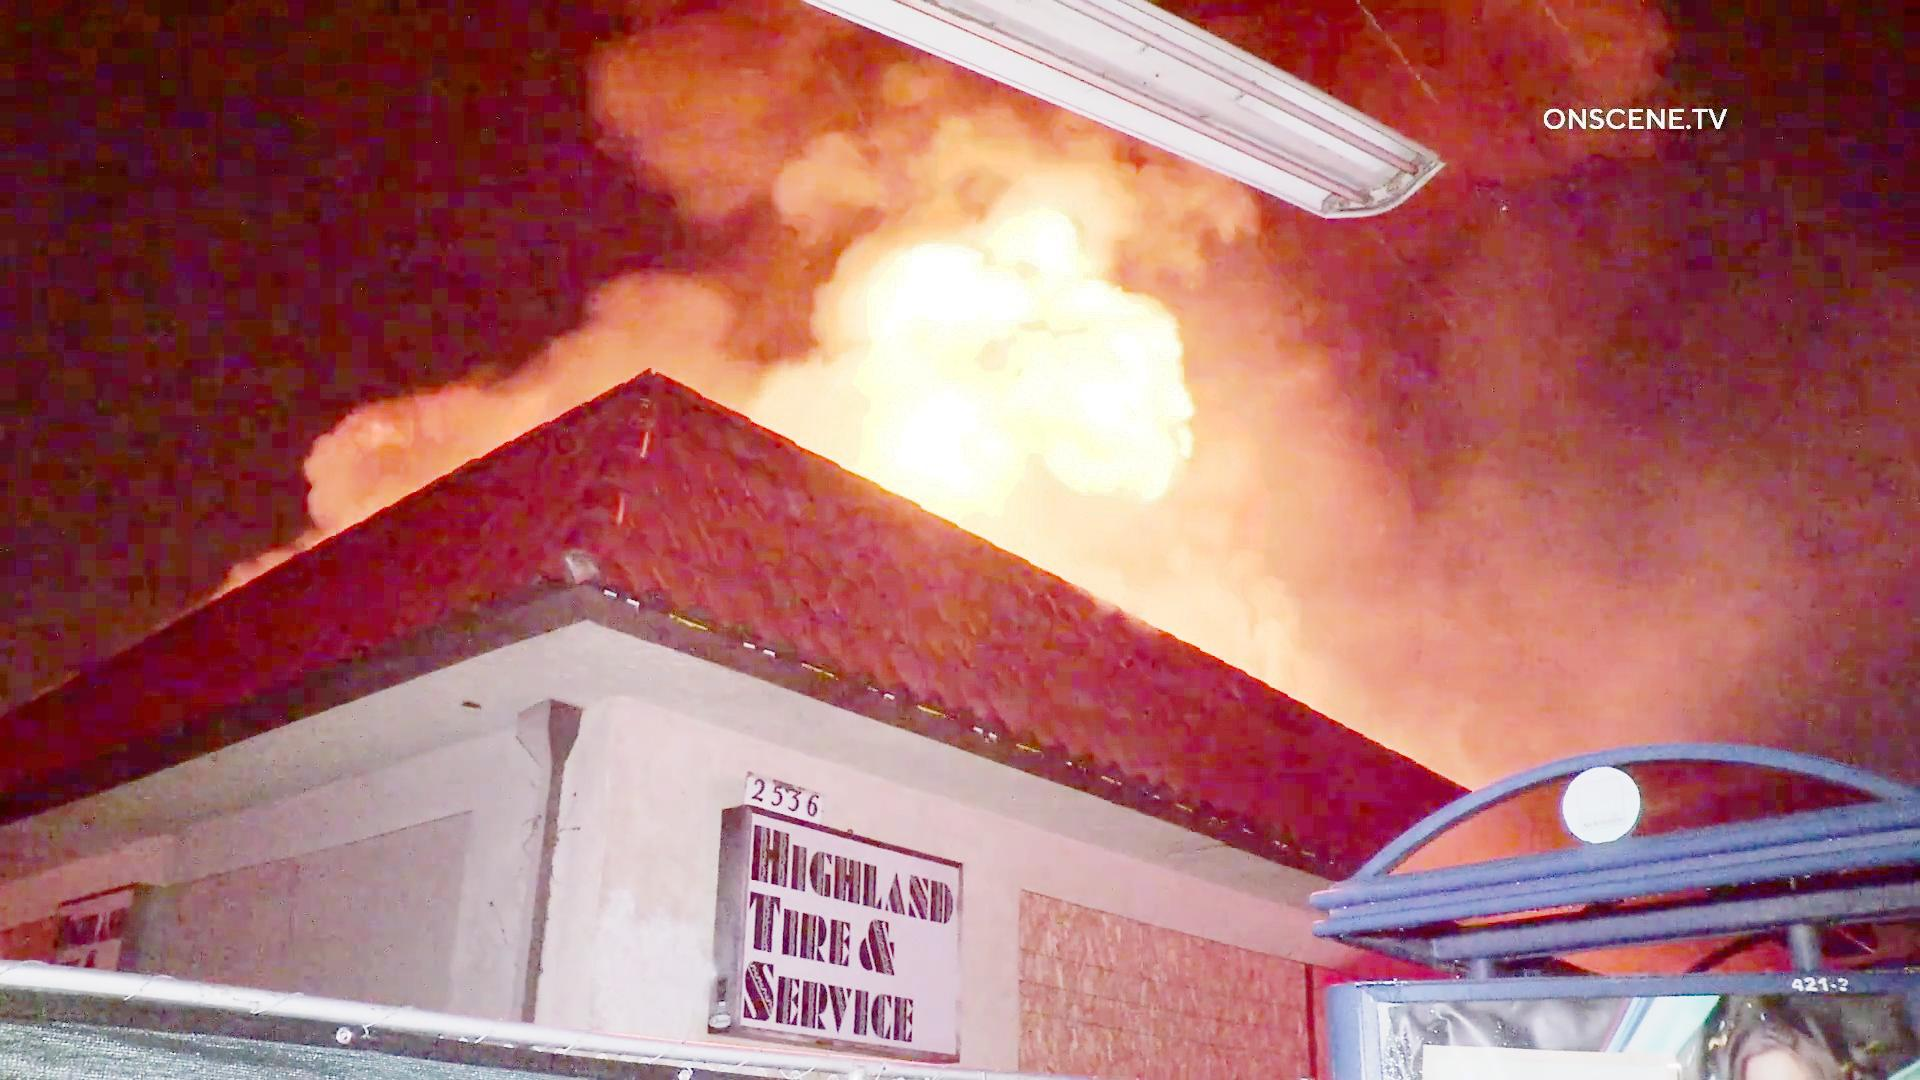fire: (845, 206, 1238, 495)
